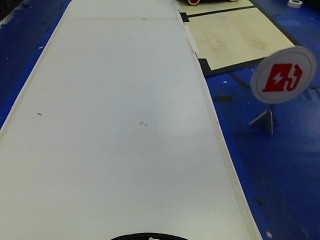battery: (250, 47, 317, 104)
